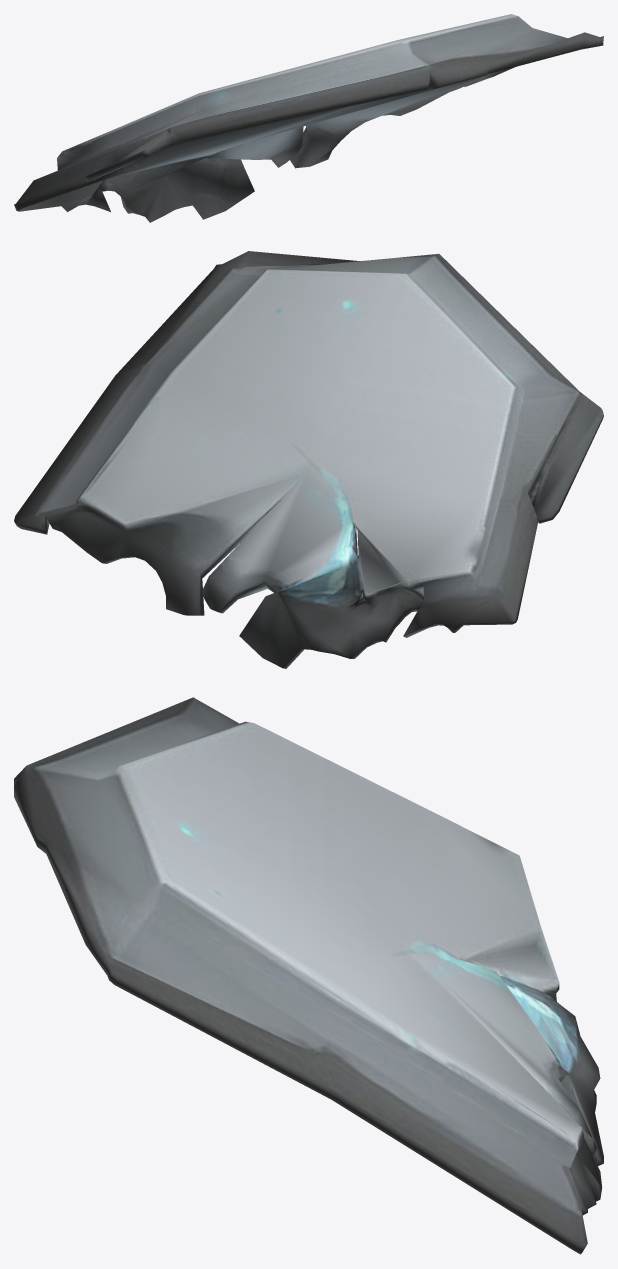
File: 08 junk.glb
The picture shows the model from 3 angles, top to bottom: view 1: azimuth 30°, elevation 25°; view 2: azimuth 150°, elevation 25°; view 3: azimuth 270°, elevation 25°; orthographic projection. The views are drawn at different scales.
Parts seen in each view (by area): view 1: tripo_node_e2ebb03e-2122-4300-8bbd-663f7b3ab011; view 2: tripo_node_e2ebb03e-2122-4300-8bbd-663f7b3ab011; view 3: tripo_node_e2ebb03e-2122-4300-8bbd-663f7b3ab011.
Boxes of the visible parts, x1,y1,x2,y2 form: tripo_node_e2ebb03e-2122-4300-8bbd-663f7b3ab011: (14, 14, 603, 222); tripo_node_e2ebb03e-2122-4300-8bbd-663f7b3ab011: (14, 251, 603, 668); tripo_node_e2ebb03e-2122-4300-8bbd-663f7b3ab011: (14, 697, 603, 1254).
Size of the model in its own units: 0.1492 by 0.0814 by 0.1033.
1 material, 1 textured.
